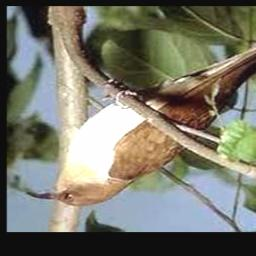Cuckoo: (25, 22, 256, 207)
